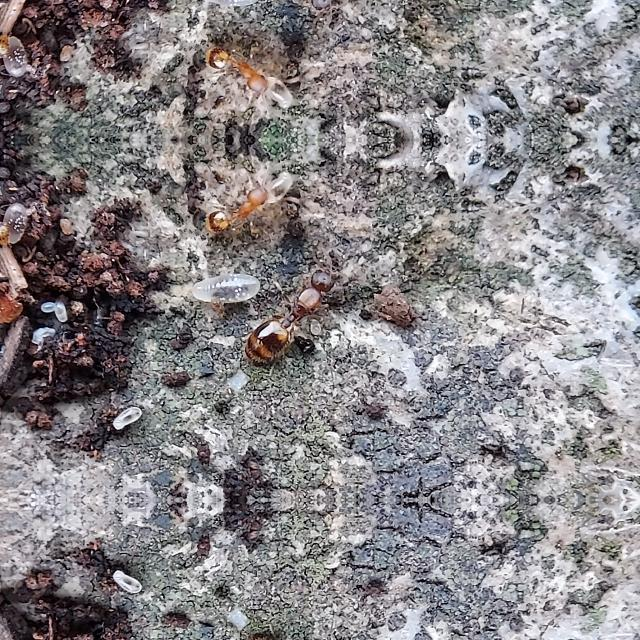Temnothorax: (213, 250, 369, 368), (186, 176, 300, 240), (186, 40, 300, 104), (213, 0, 369, 30)
